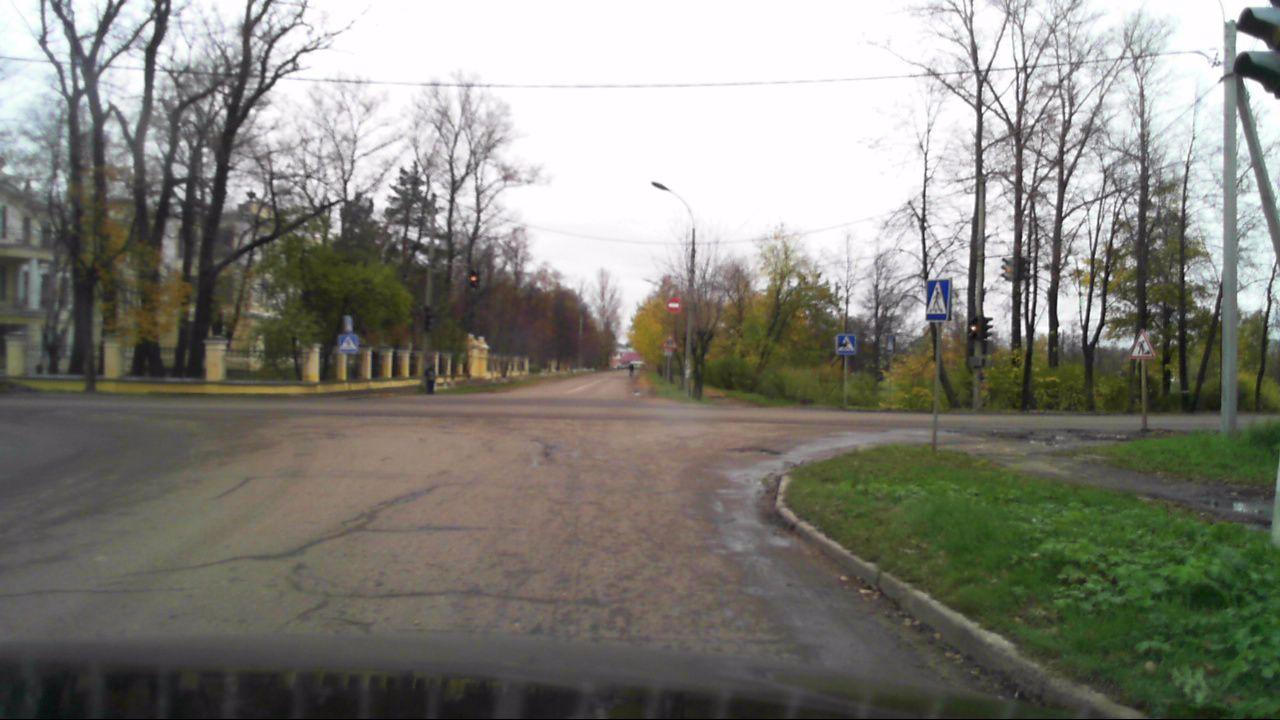obstructed_road_sign: (835, 334, 857, 355)
road_sign: (928, 278, 950, 322), (667, 295, 682, 314)
traffic light: (1002, 258, 1014, 281)
